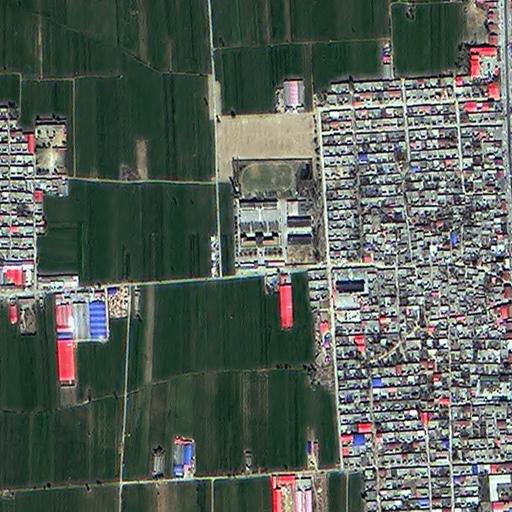school: (235, 155, 317, 272)
